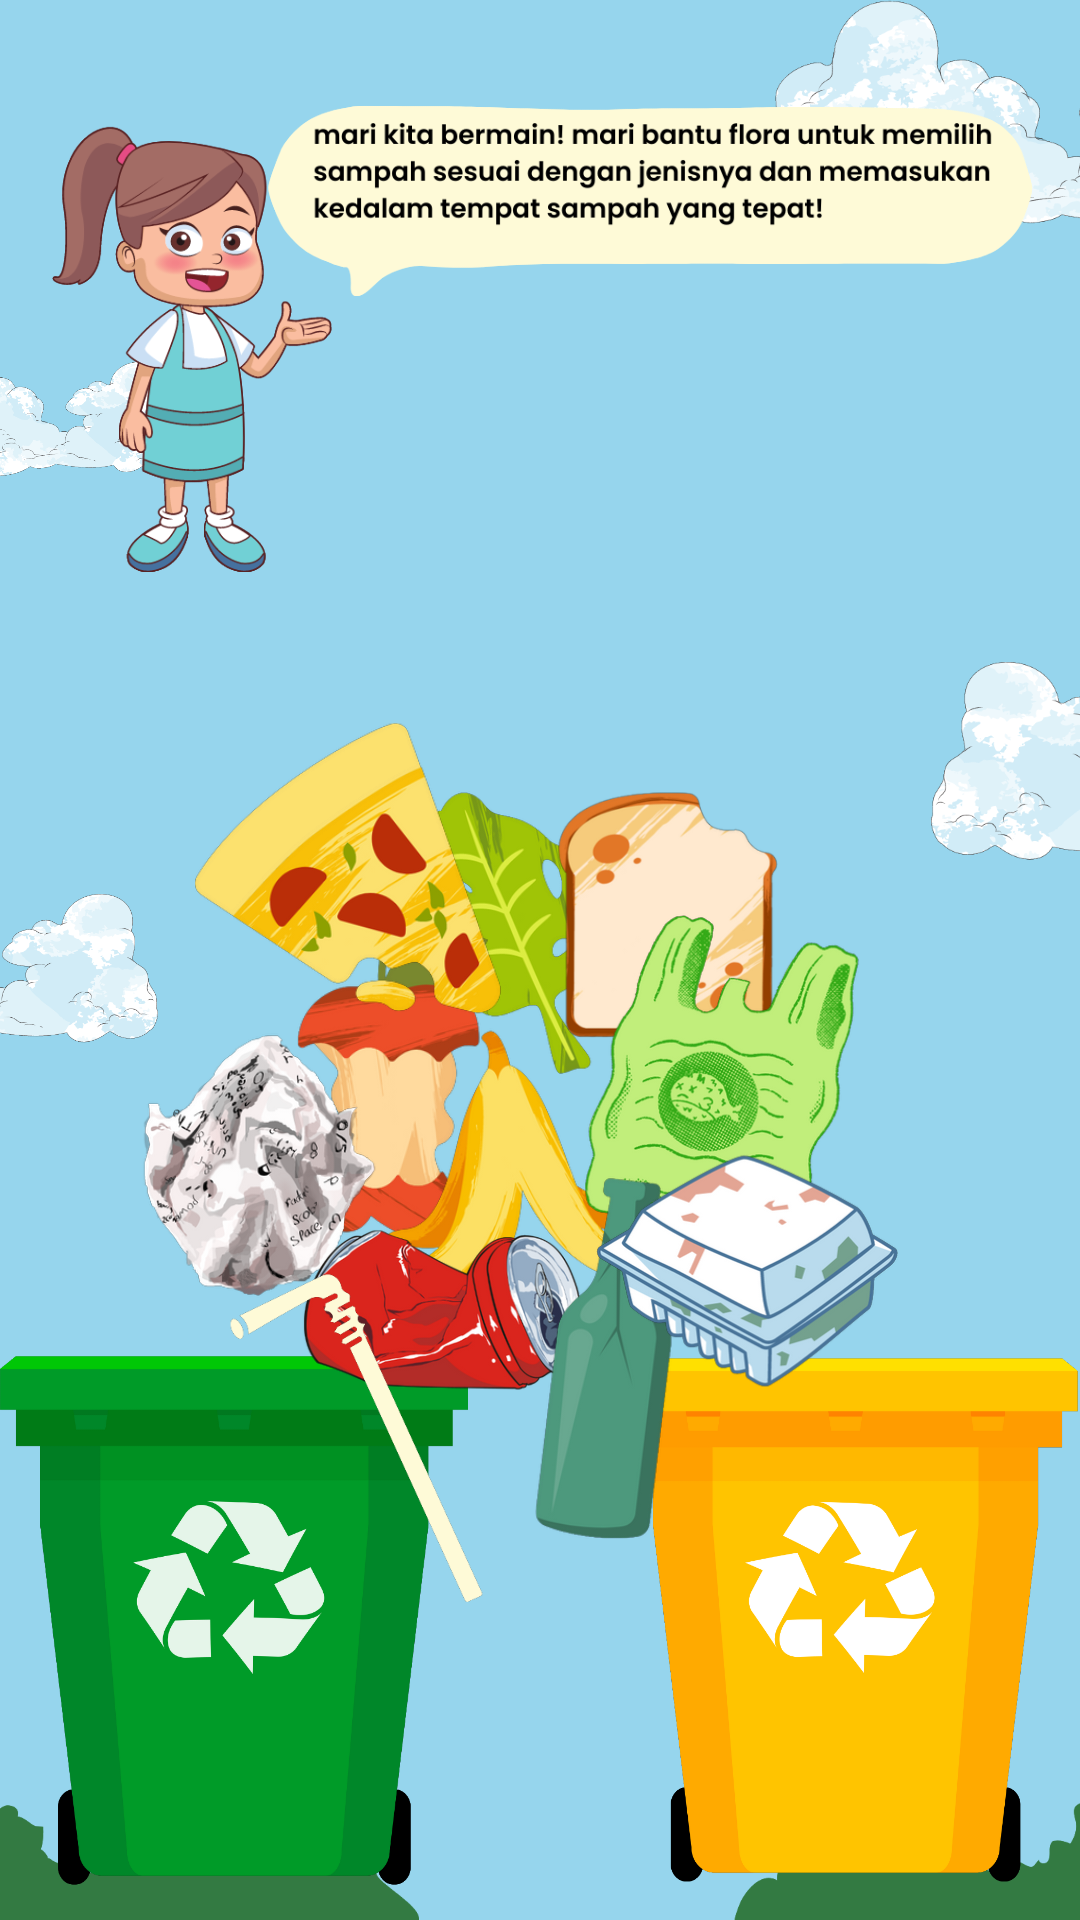

Named icons in this screenshot (1080w x 1920h) and their centers, point (x, y):
game apel: point (393, 1077)
game kaleng: point (443, 1309)
game karton: point (747, 1270)
game kertas: point (259, 1165)
game kresek: point (721, 1068)
game pizza: point (348, 876)
game roti: point (668, 915)
game sayur: point (512, 933)
